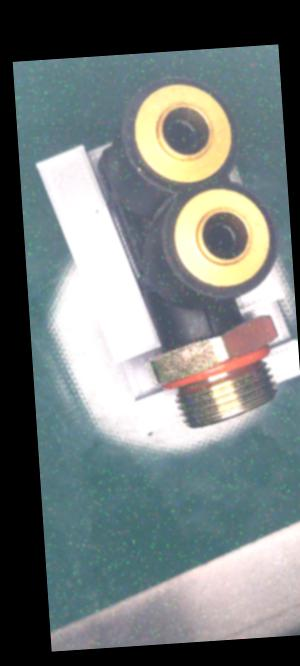craze: (197, 308, 218, 338)
